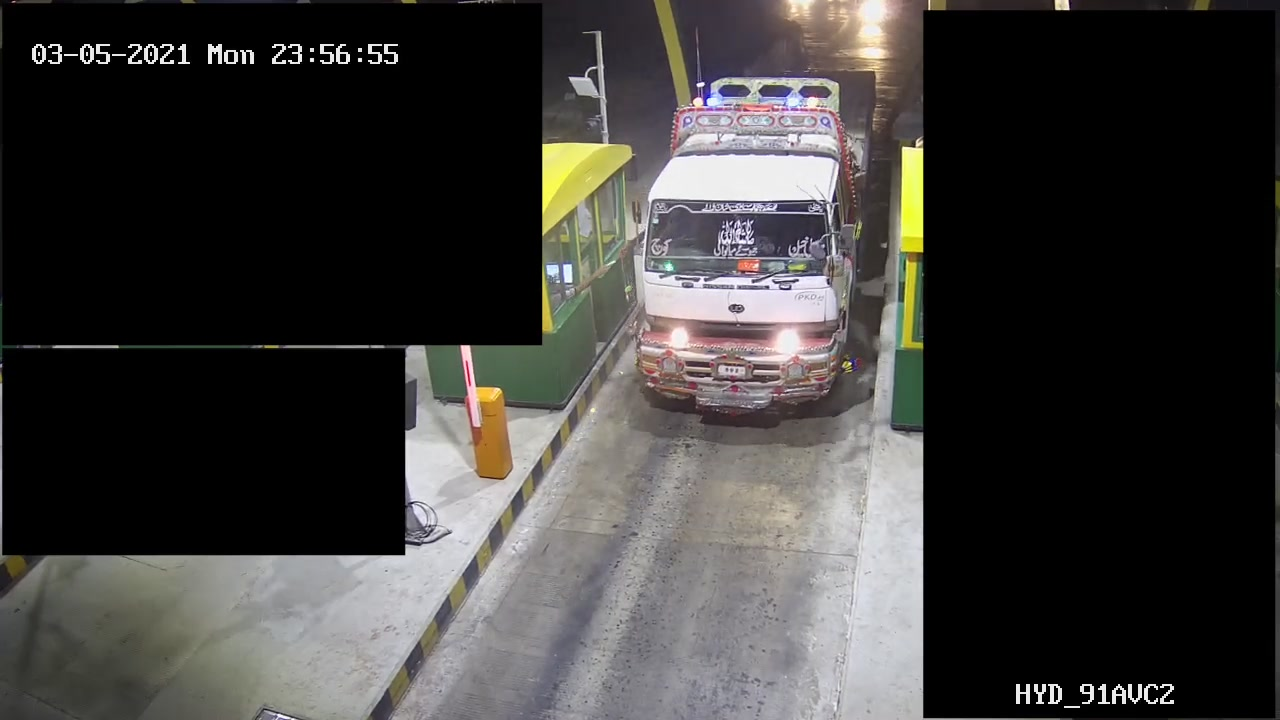F6: (628, 65, 885, 426)
